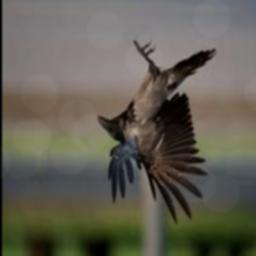Crow: (98, 41, 218, 225)
